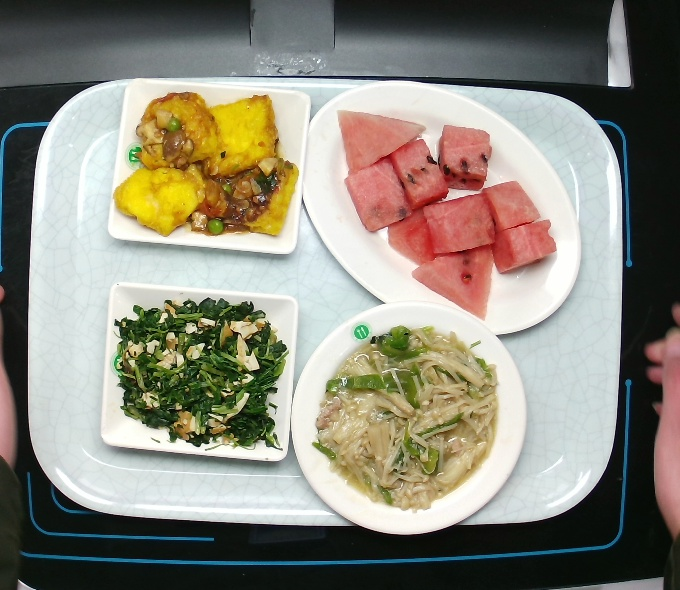wcq-CuiPiDouFu: (108, 87, 303, 241)
wcq-JinZhenGu: (303, 320, 508, 519)
wcq-MaLanTouChaoDouGan: (108, 292, 291, 456)
wcq-XiGua: (329, 97, 563, 329)
